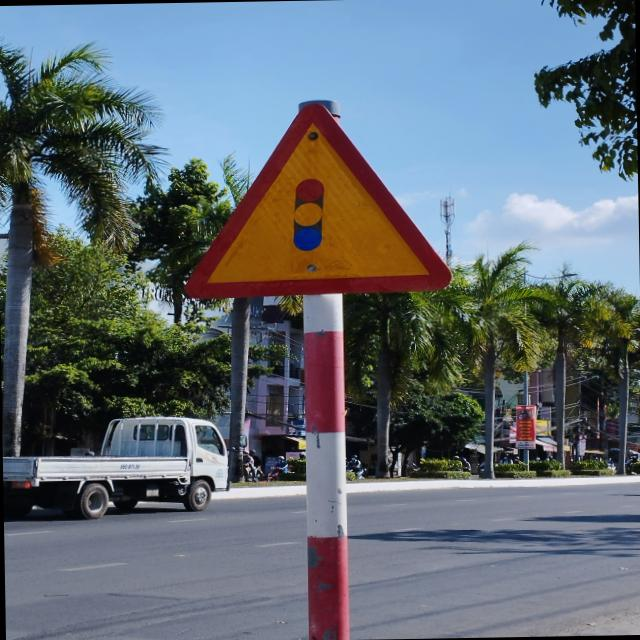Duong_Co_Go_Giam_Toc: (180, 100, 452, 296)
